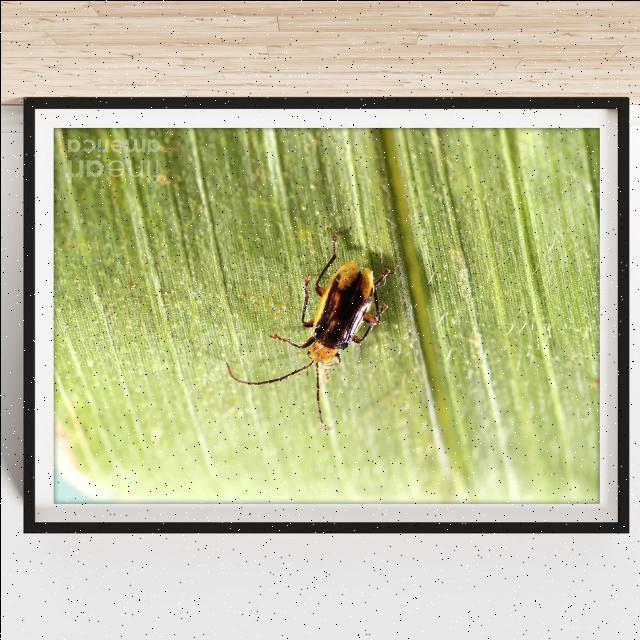trips: (224, 228, 396, 424)
